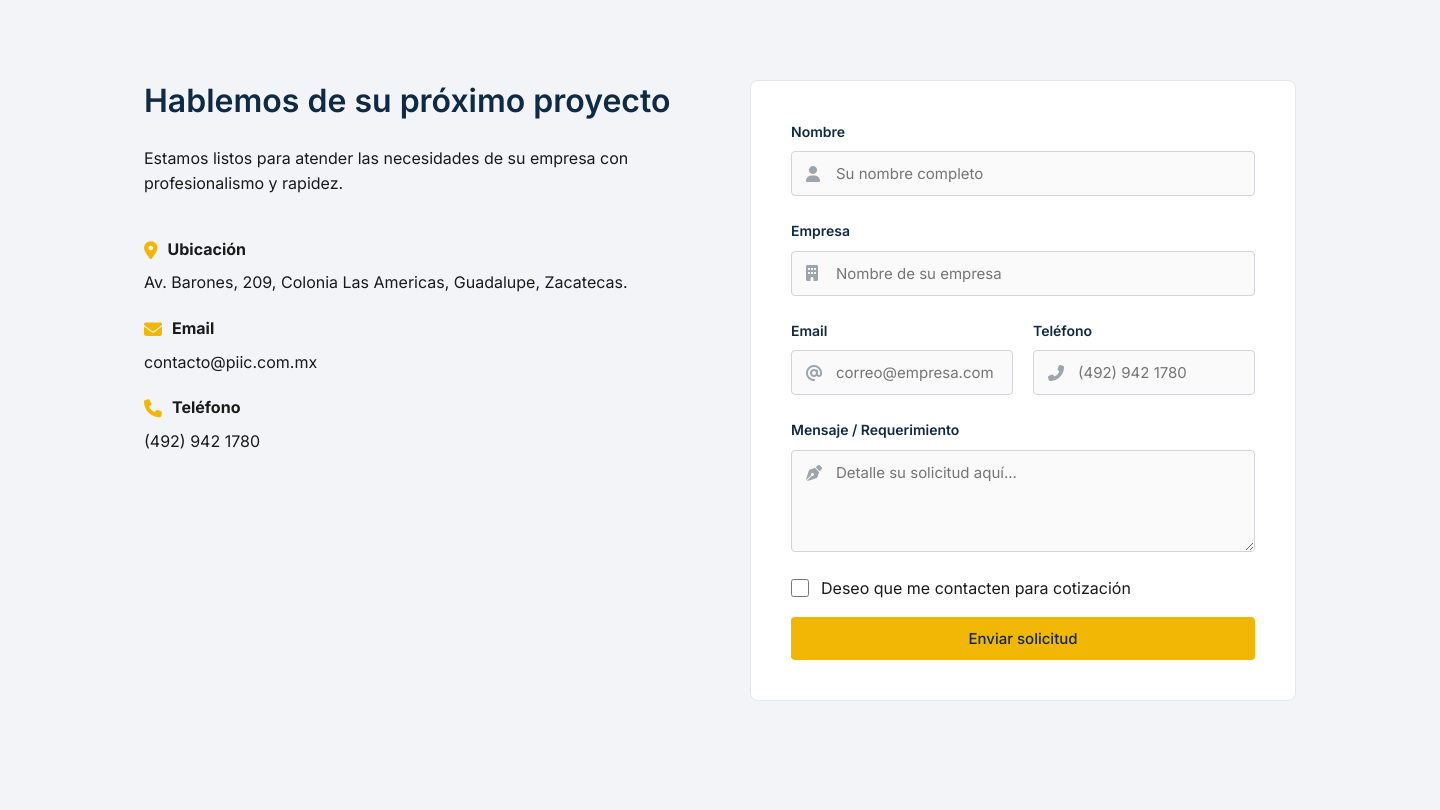
it: Contact Component › handles API errors without message correctly
The image size is (1440, 810).
Type "Test User" into the field labelled "Nombre" at (1023, 174), box left=791, top=151, right=1255, bottom=196
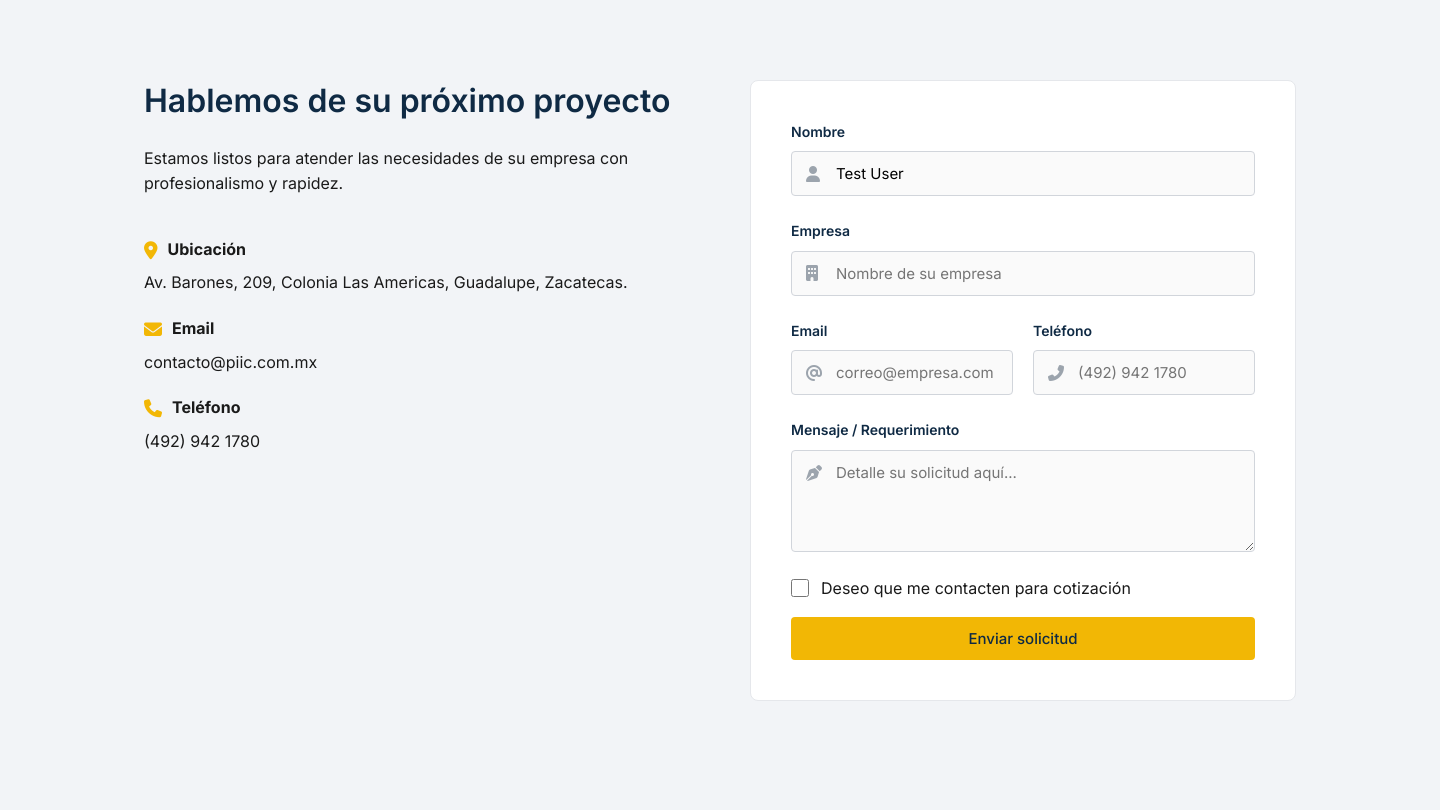
Type "Test Corp" into the field labelled "Empresa" at (1023, 273), box left=791, top=251, right=1255, bottom=296
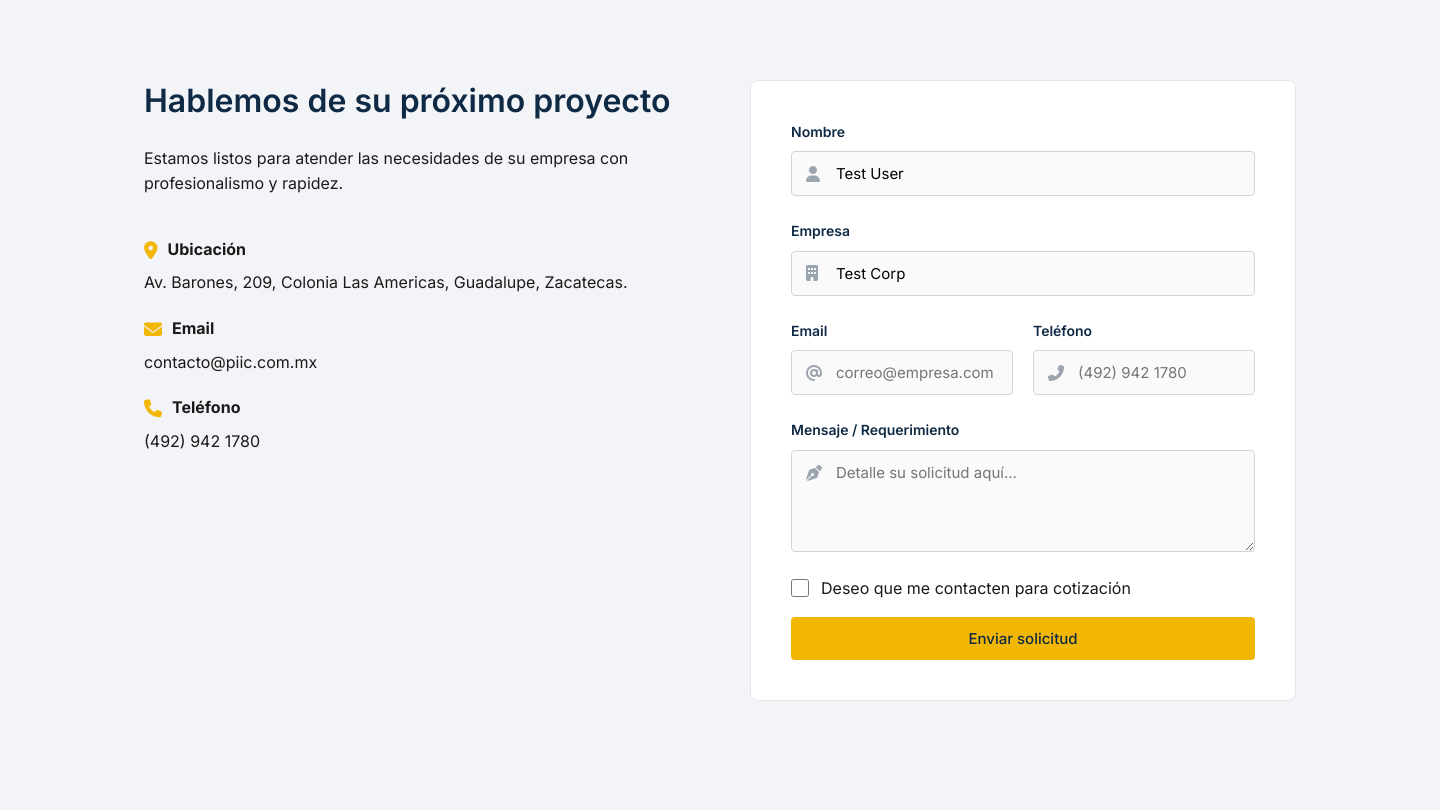
Type "test@corp.com" into the field labelled "Email" at (902, 373), box left=791, top=350, right=1013, bottom=395
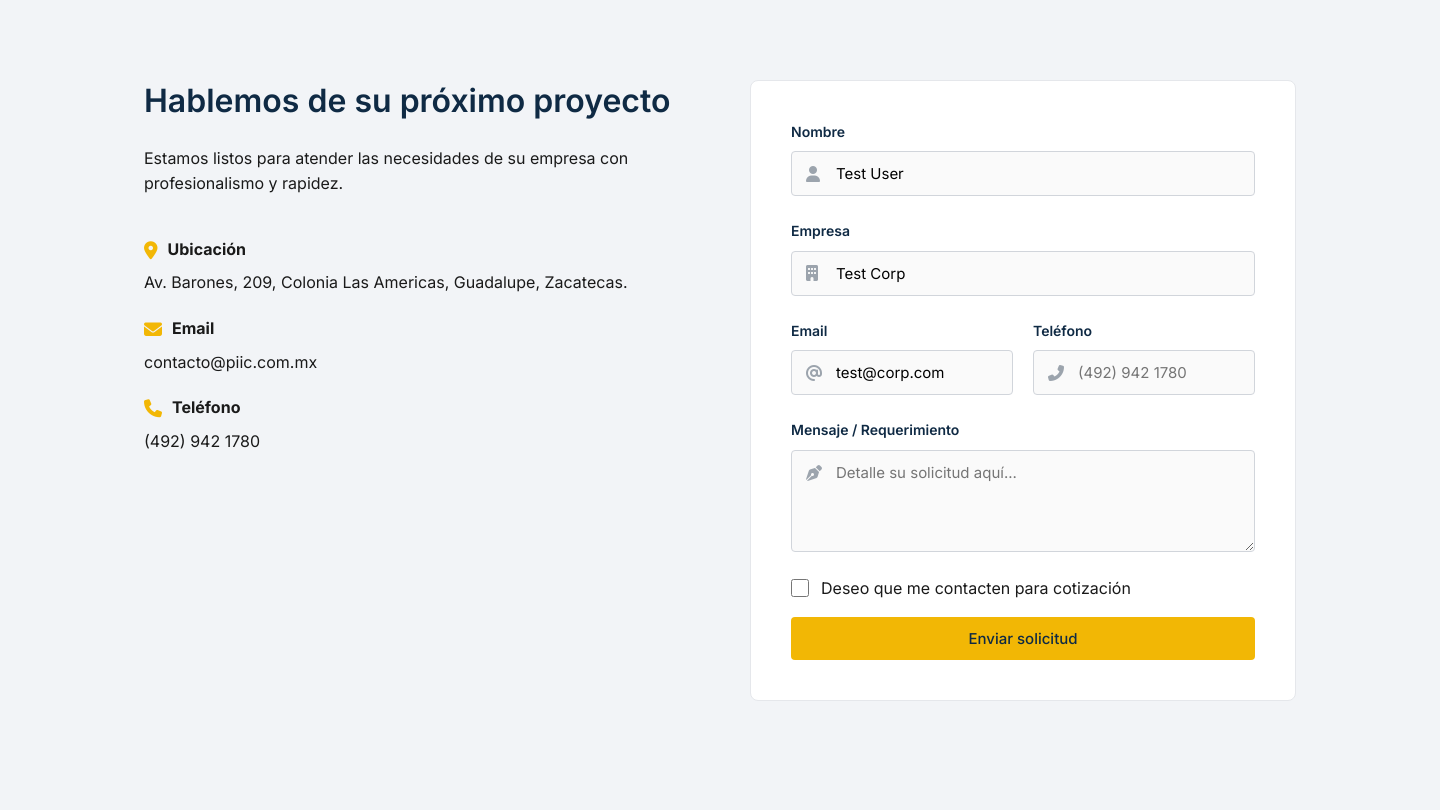
Type "Testing error" into the text box labelled "Mensaje / Requerimiento" at (1023, 501), box left=791, top=450, right=1255, bottom=552
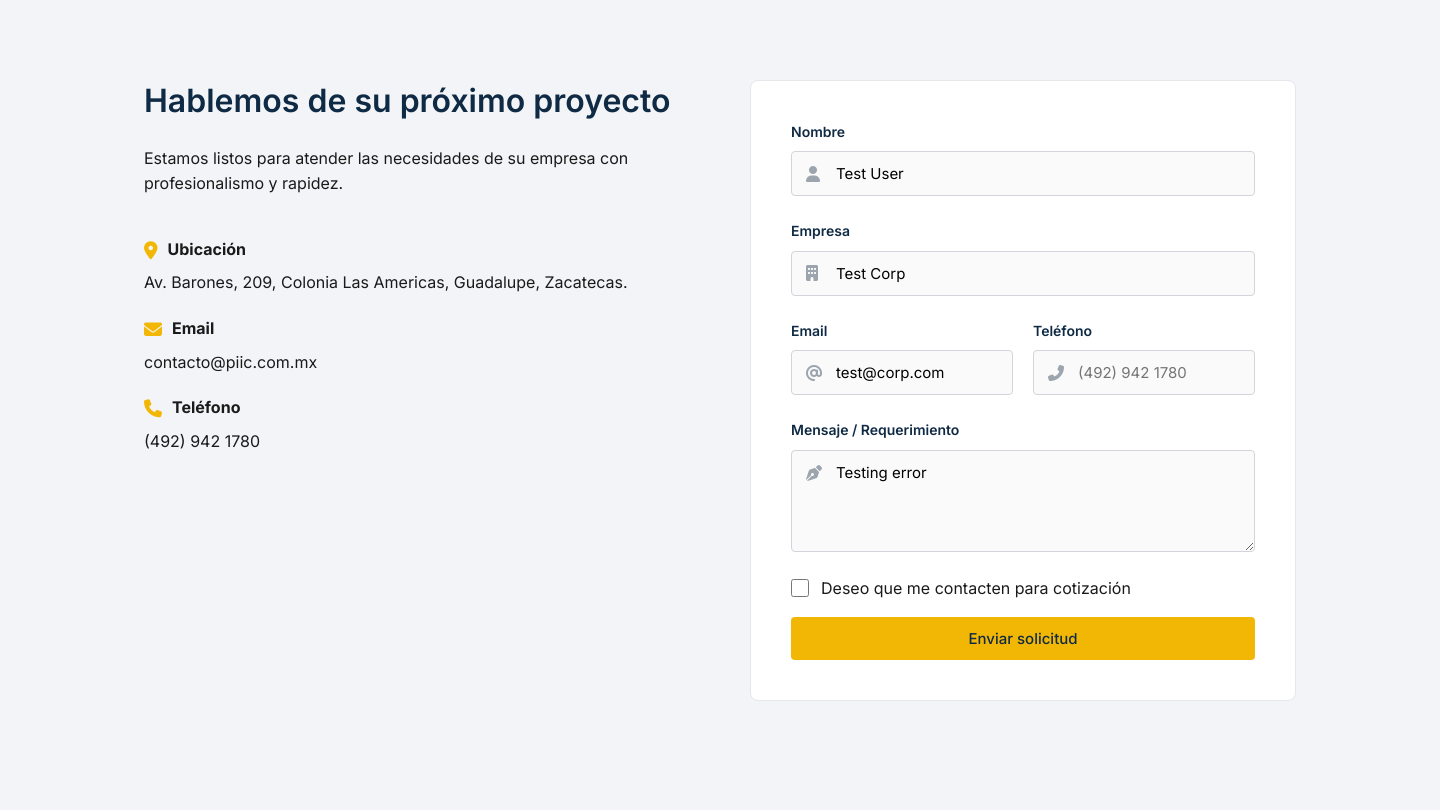
Click the button "Enviar solicitud" at (1023, 639), box left=791, top=617, right=1255, bottom=660
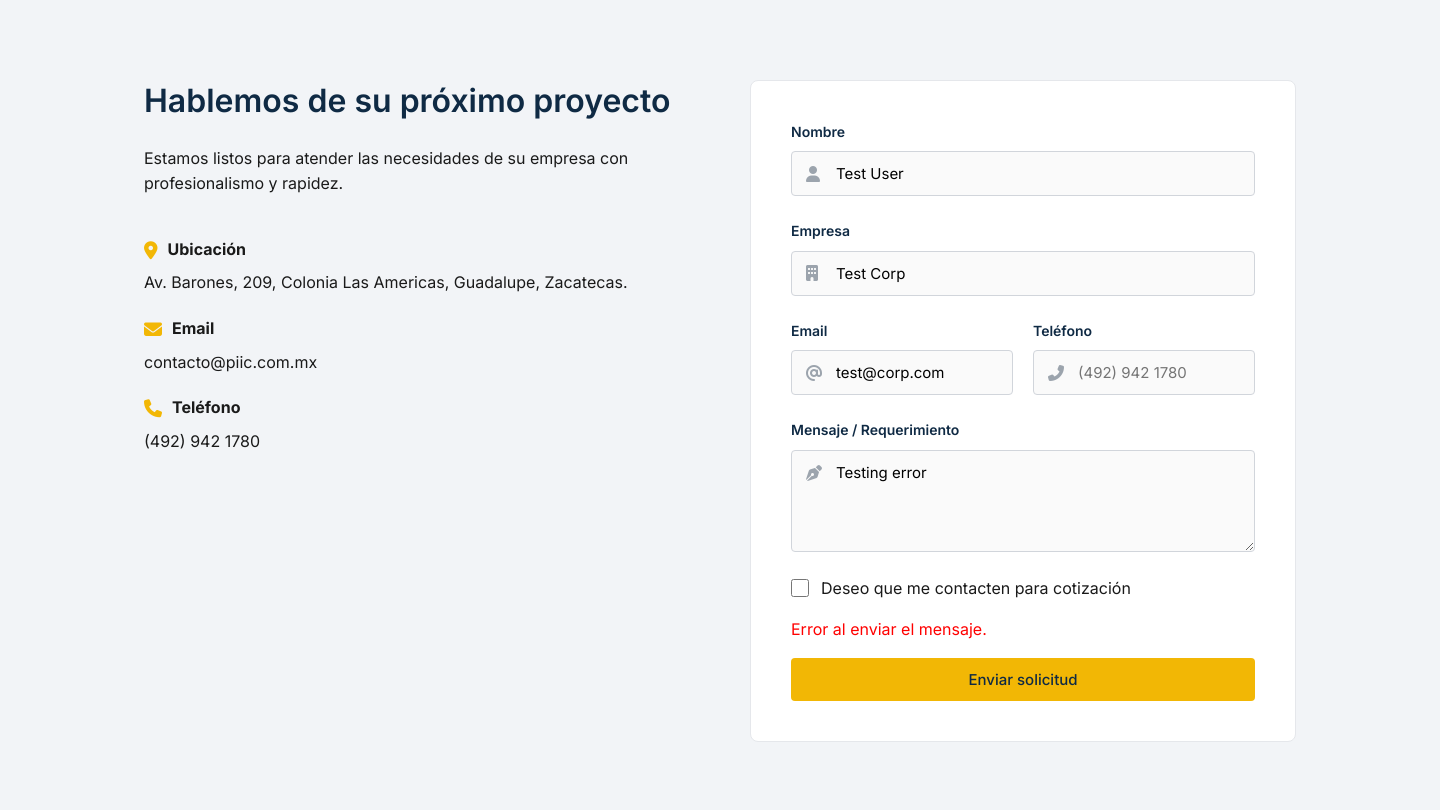
Expected: the text "Error al enviar el mensaje." is shown, left=791, top=619, right=987, bottom=639
